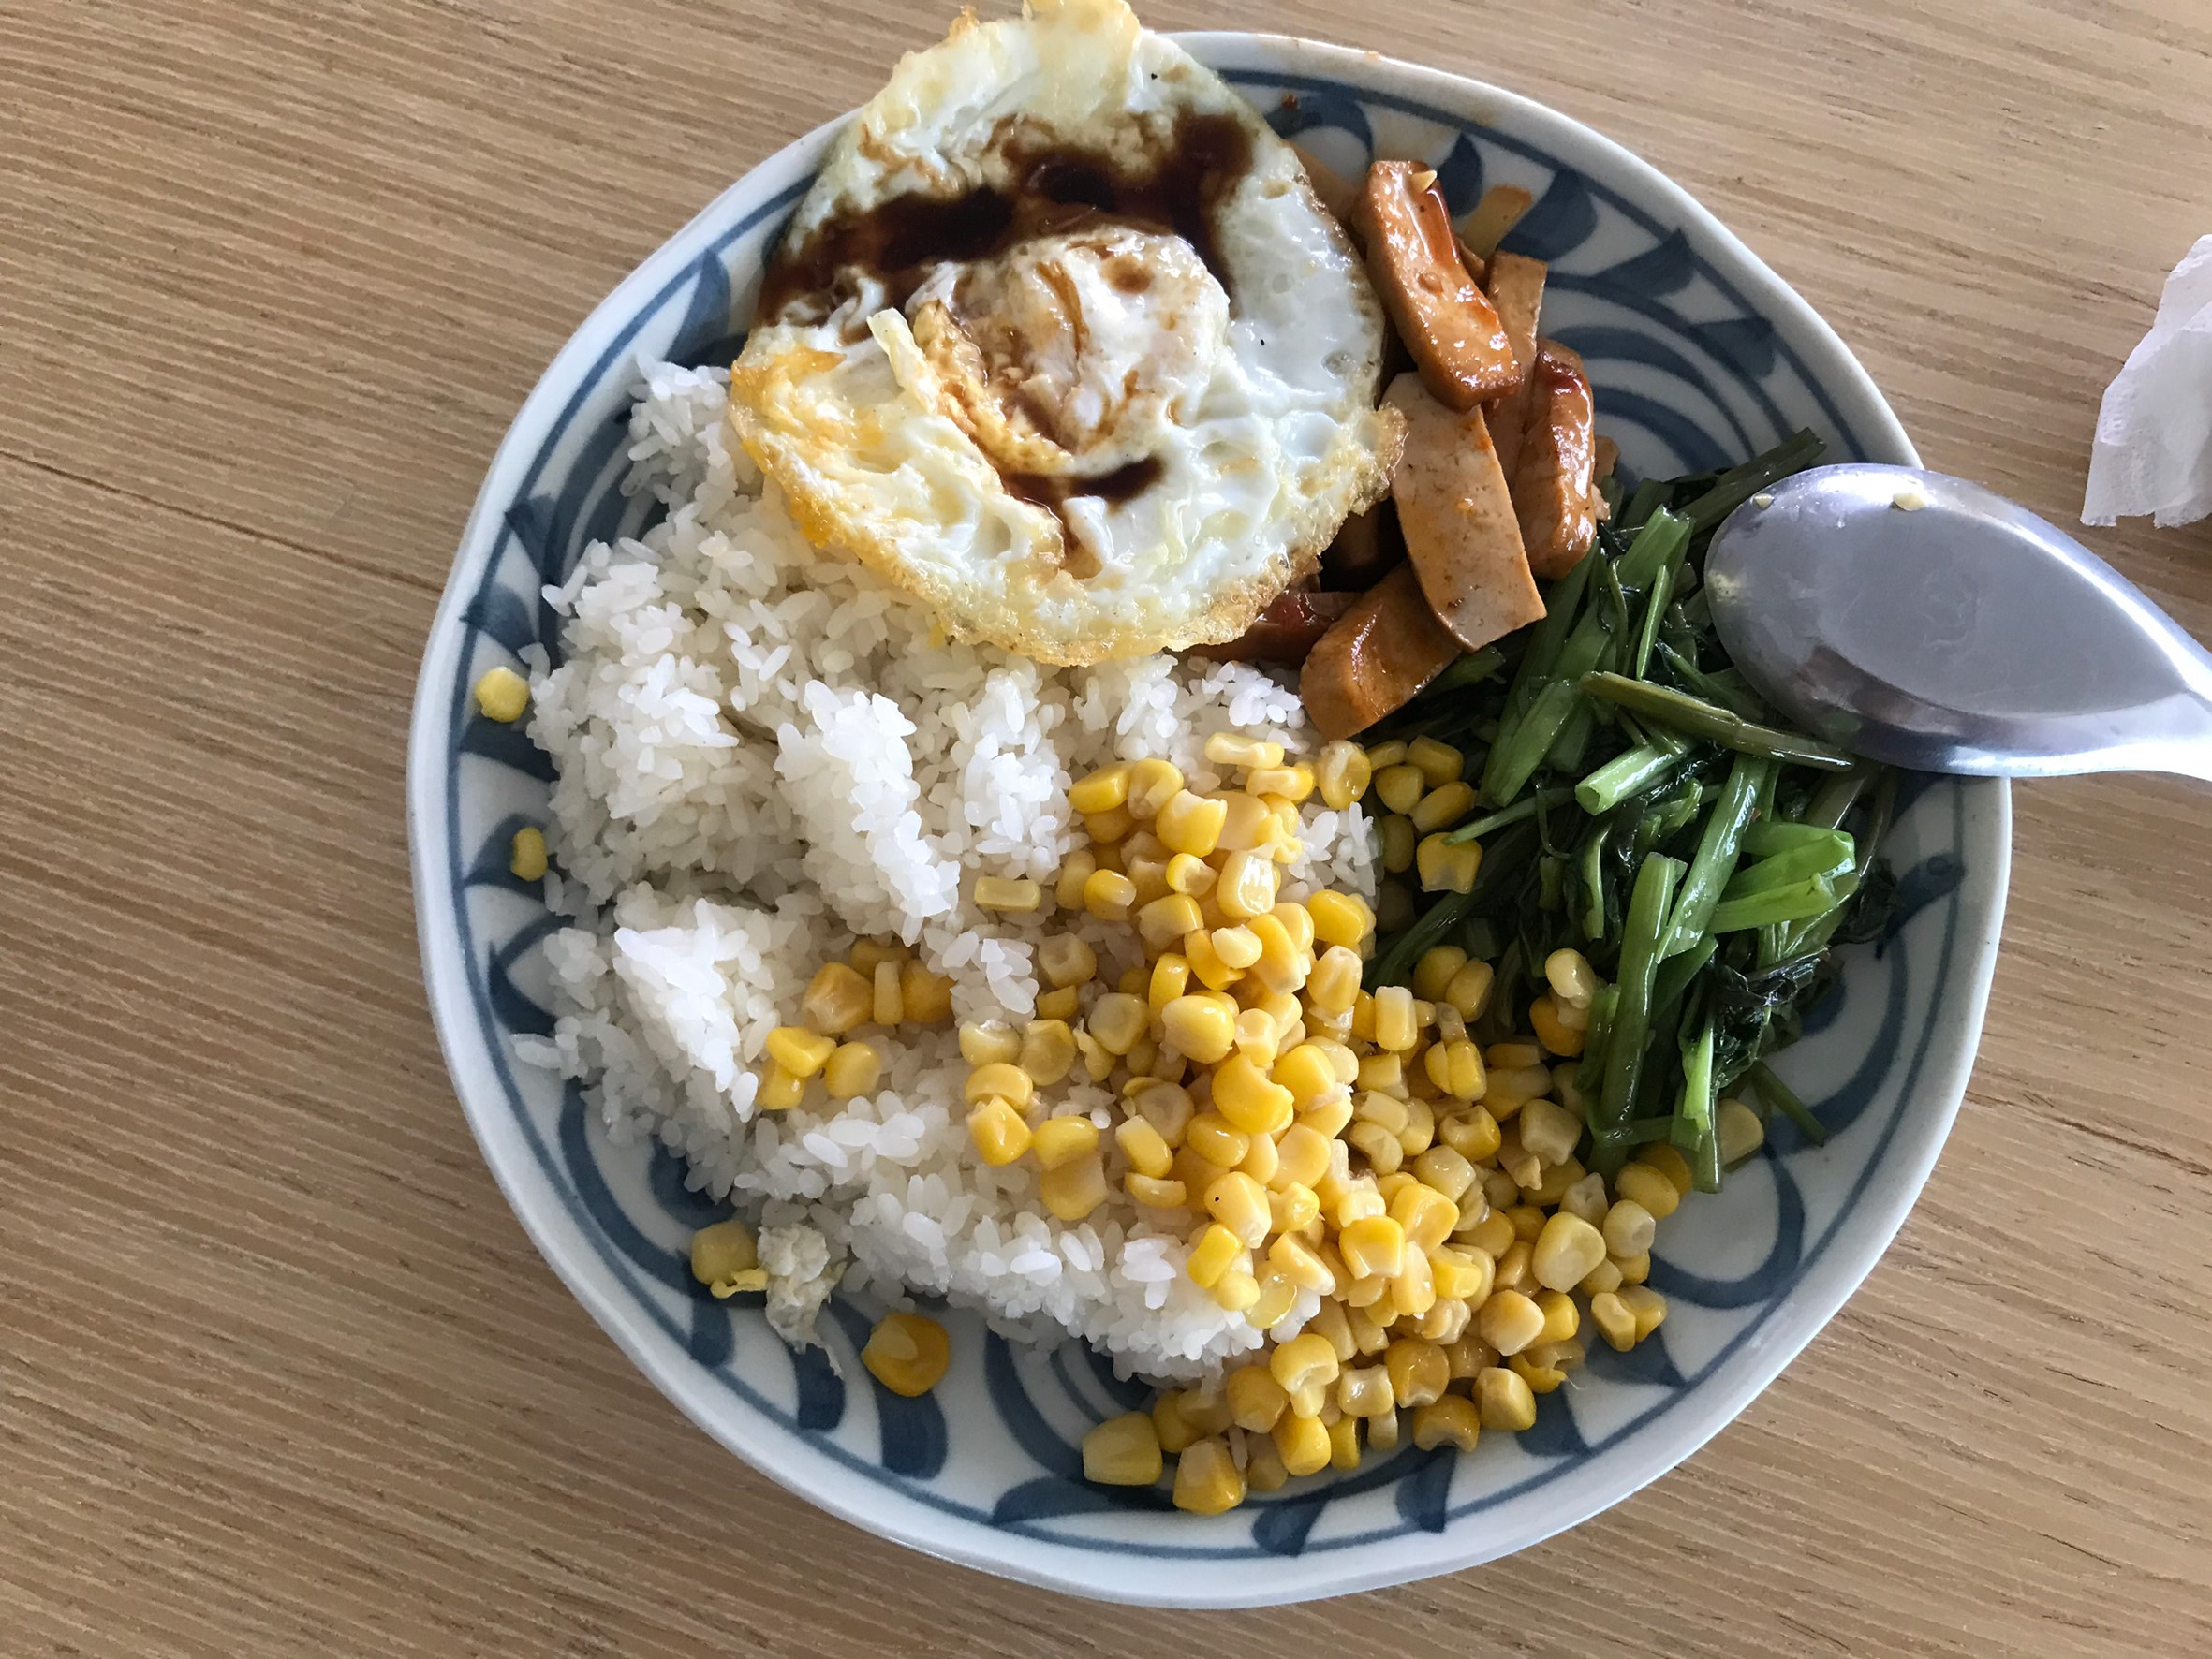fried_eggs: (760, 19, 1379, 669)
rice: (565, 640, 1070, 1188)
water_spinach: (1447, 551, 1842, 1087)
